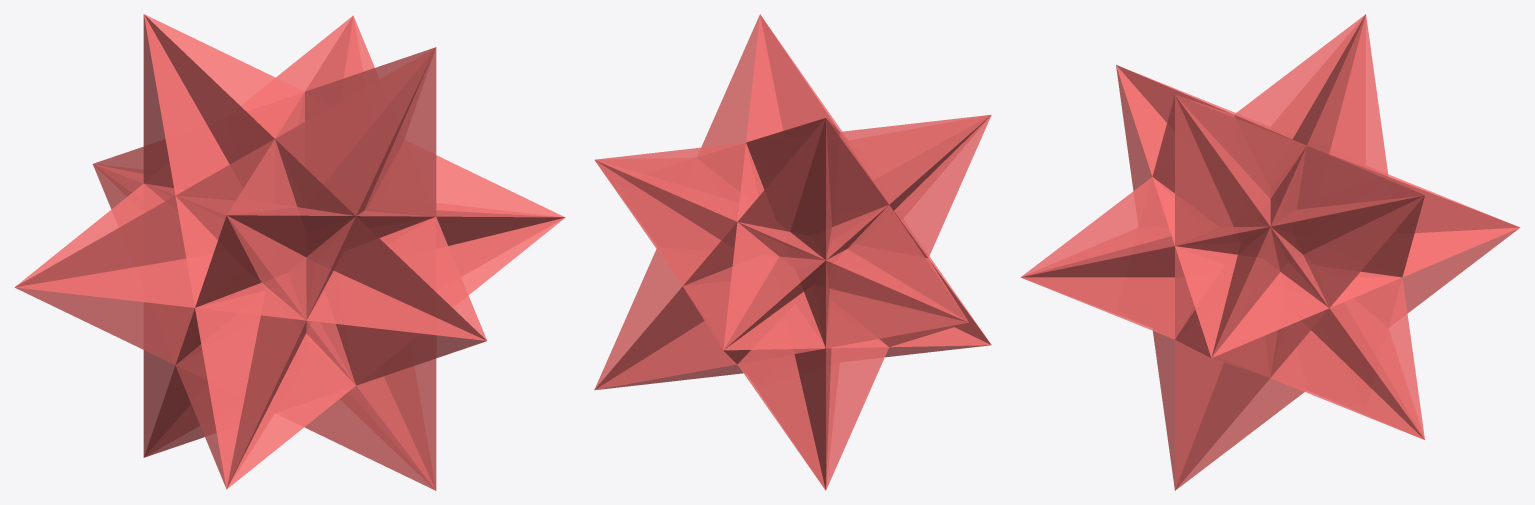
File: fractalgreaticosahedron0.glb
The picture shows the model from 3 angles, left to right: view 1: azimuth 30°, elevation 25°; view 2: azimuth 150°, elevation 25°; view 3: azimuth 270°, elevation 25°; orthographic projection. The views are drawn at different scales.
Size of the model in its own units: 12 by 10.49 by 12.
